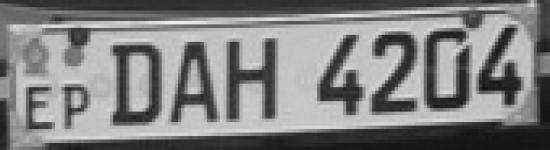0: (423, 24, 475, 113)
2: (370, 24, 421, 116)
4: (311, 29, 368, 120), (477, 21, 529, 111)
A: (166, 39, 222, 128)
D: (104, 39, 168, 129)
E: (21, 76, 57, 137)
H: (219, 33, 289, 128)
P: (61, 75, 94, 133)
